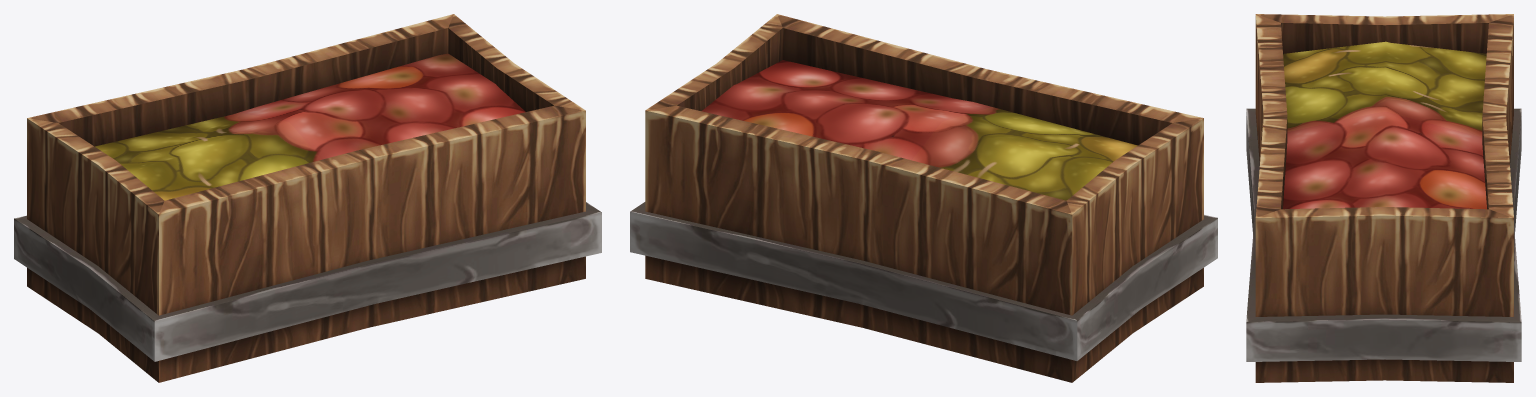
The picture shows the model from 3 angles, left to right: view 1: azimuth 30°, elevation 25°; view 2: azimuth 150°, elevation 25°; view 3: azimuth 270°, elevation 25°; orthographic projection. The views are drawn at different scales.
Visible parts, largest first — view 1: Box_3; view 2: Box_3; view 3: Box_3.
Boxes of the visible parts, x1=… form: Box_3: x1=14, y1=14, x2=601, y2=382; Box_3: x1=630, y1=14, x2=1217, y2=382; Box_3: x1=1246, y1=14, x2=1521, y2=382.
Bounding box in the file's own units: 391 × 141 × 213.
